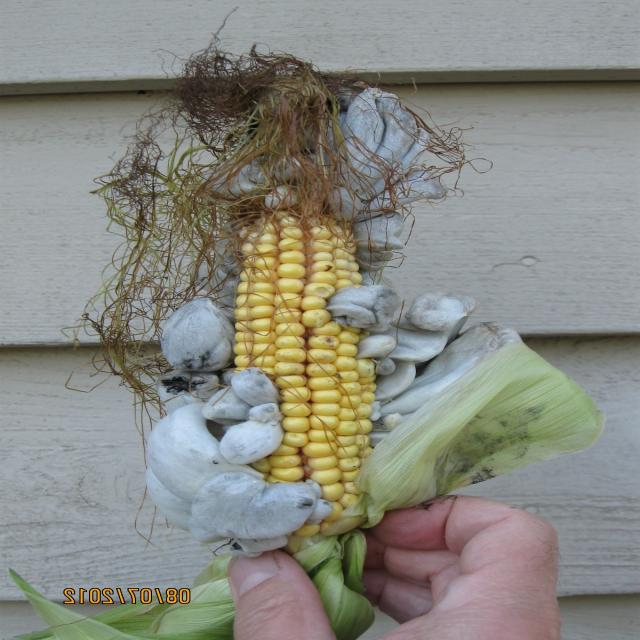Leaf_Scald: (67, 39, 565, 574)
